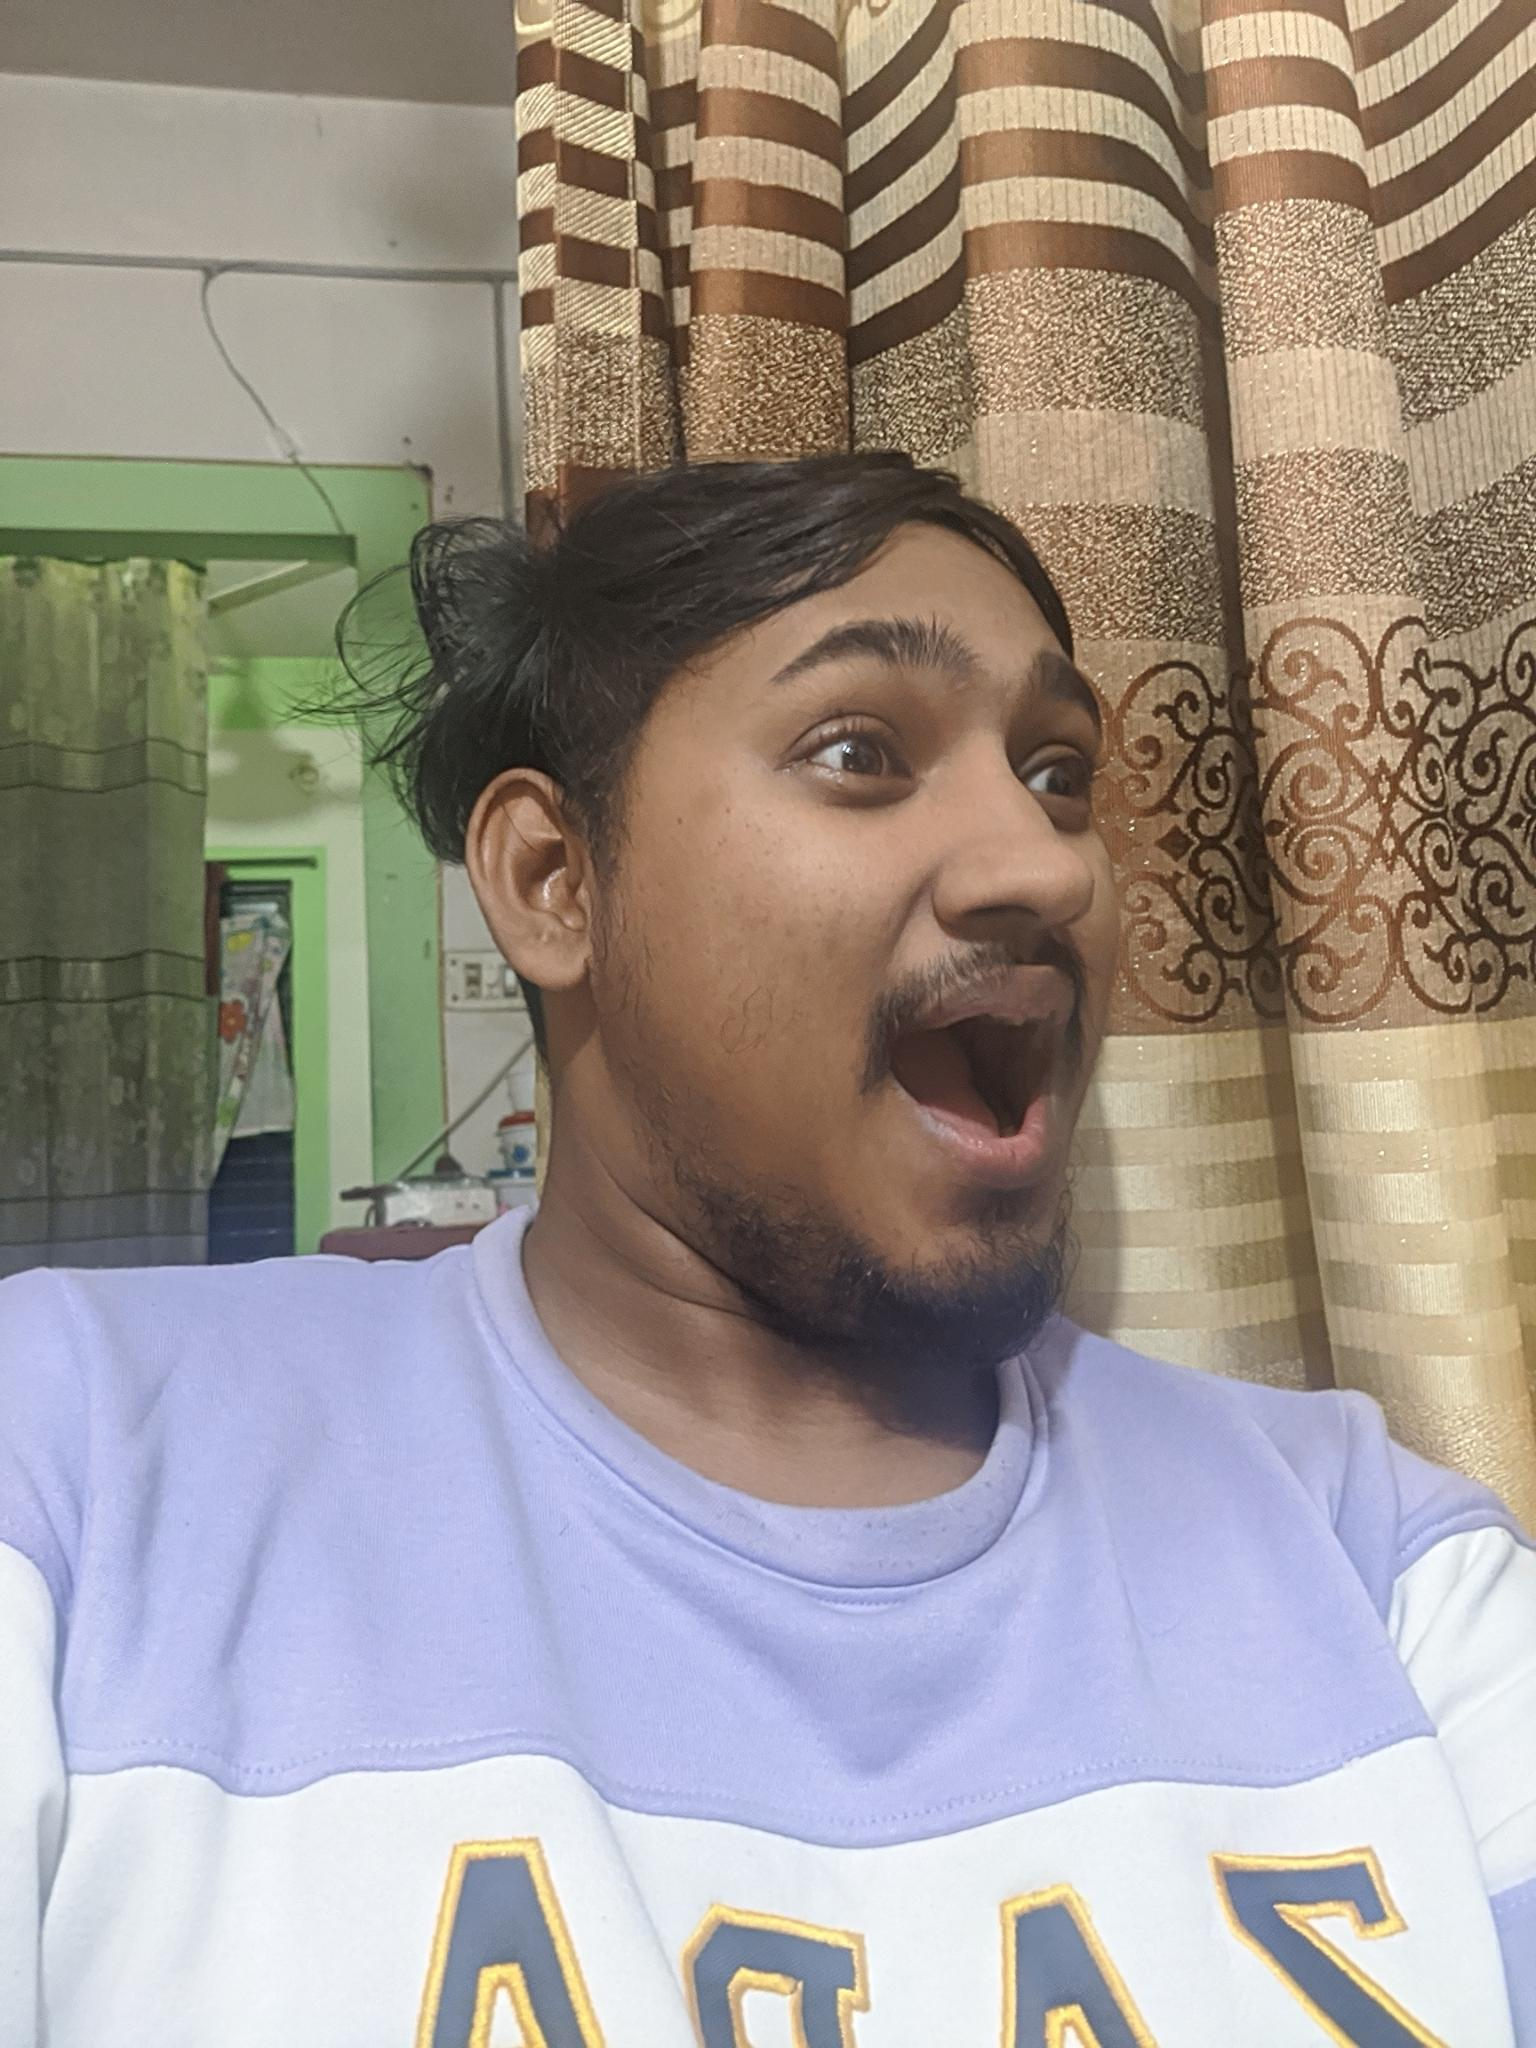Surprise: (681, 561, 1173, 1293)
